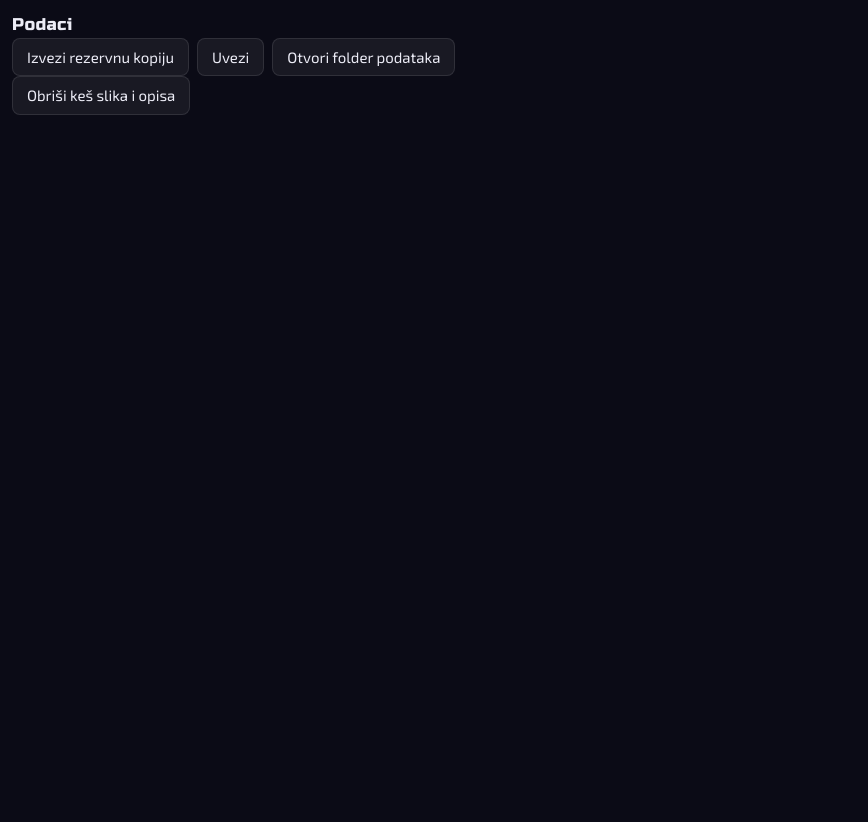
Scenario: DataSection › export canceled shows no toast, failure shows an error toast
Click the button "Izvezi rezervnu kopiju" at (100,57), box [12,38,189,76]
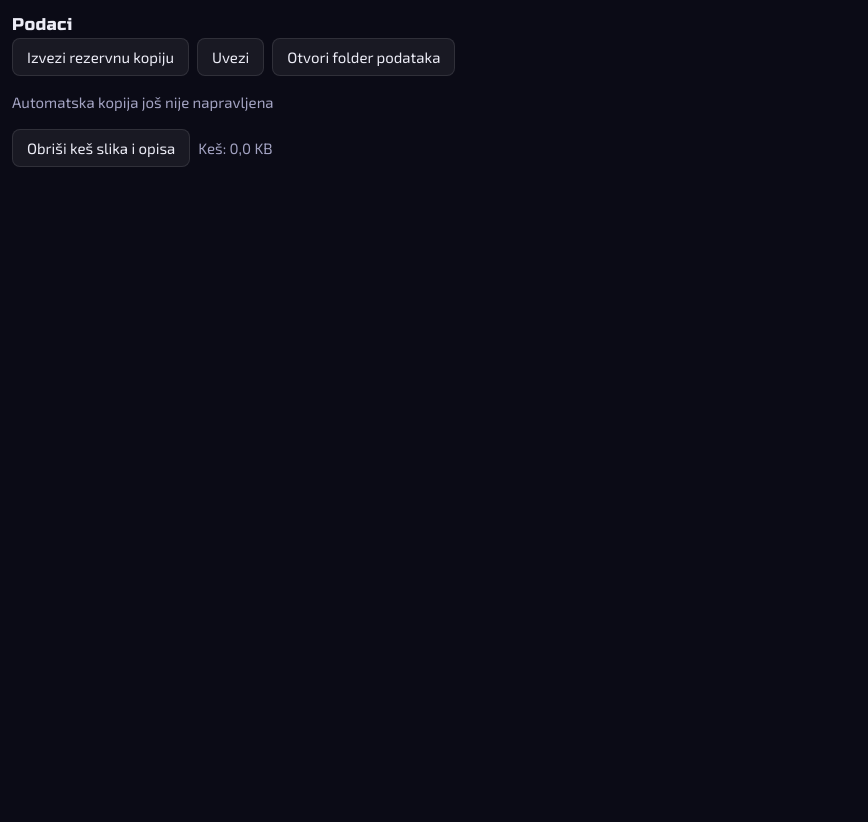
Expected: the text "Izvoz nije uspeo" is not shown
Click the button "Izvezi rezervnu kopiju" at (100,57), box [12,38,189,76]
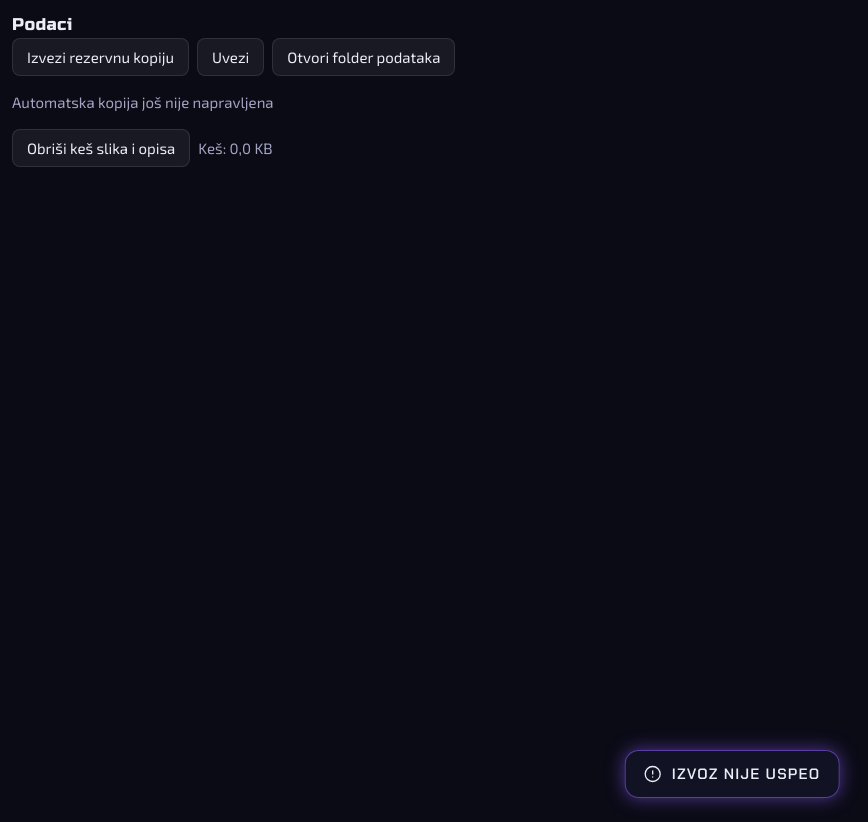
Now the text "Izvoz nije uspeo" is shown, box [672,762,820,785]
